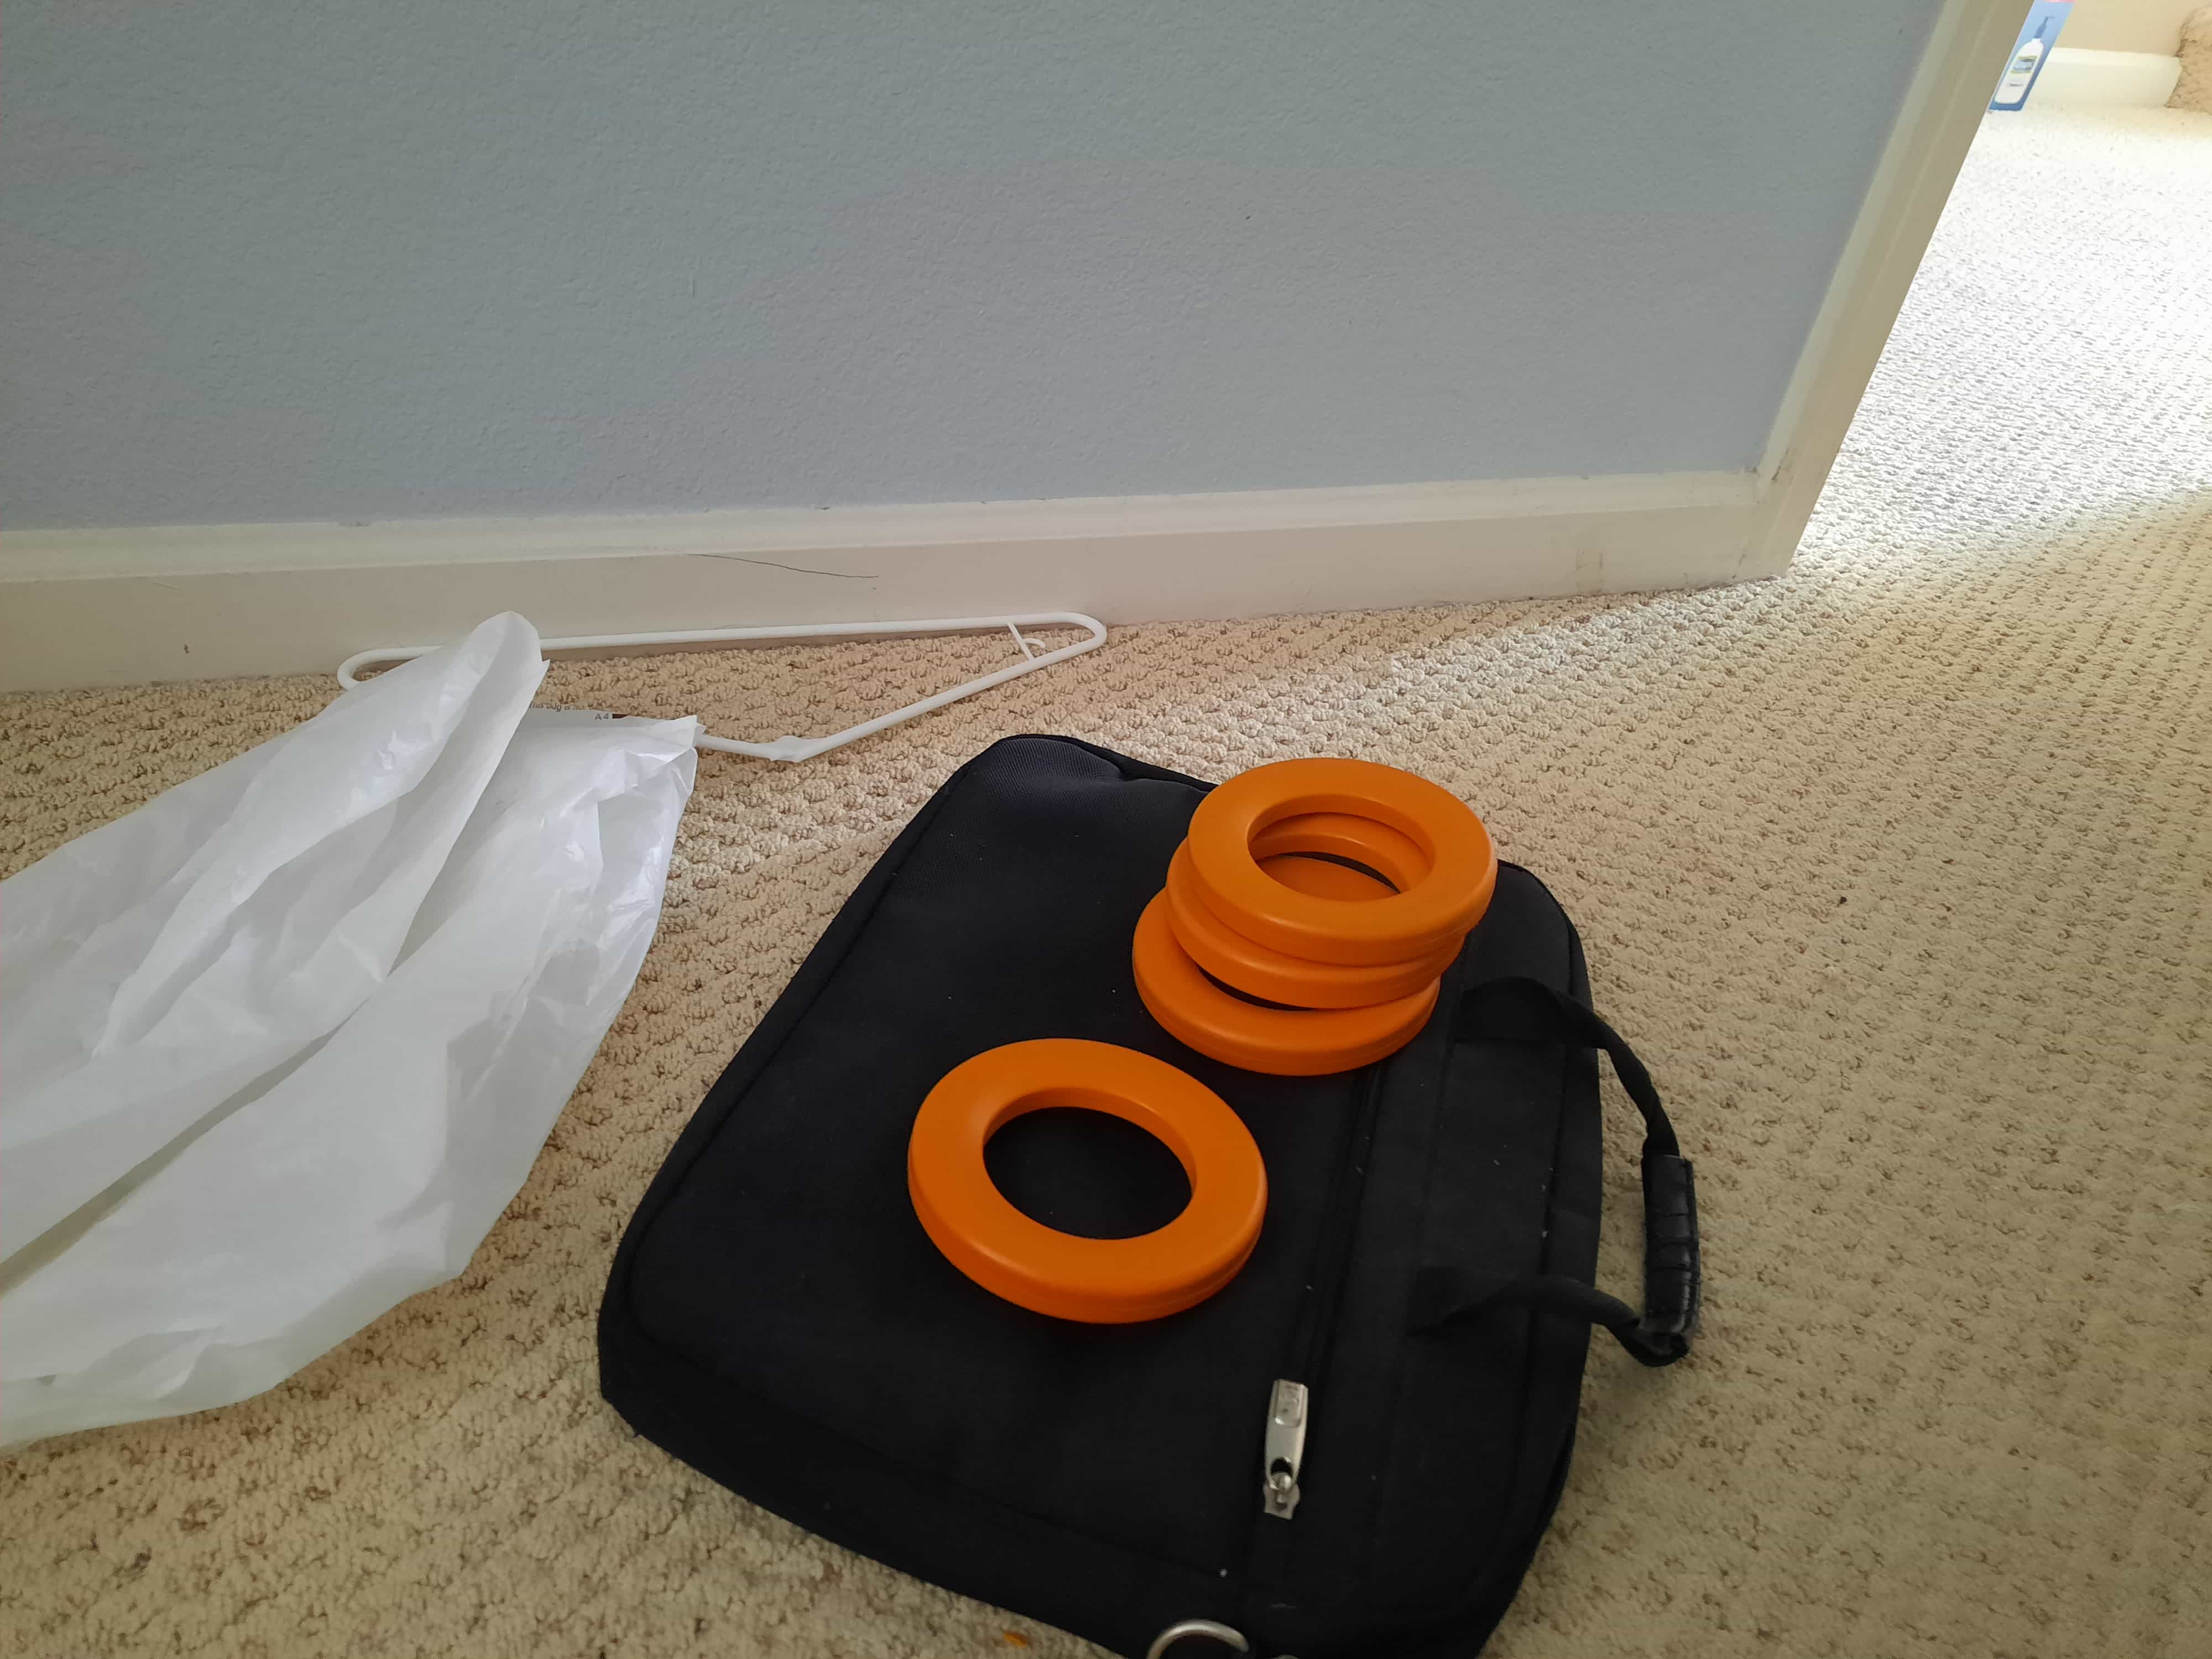FourStack: (1136, 775, 1493, 1070)
OneStack: (900, 1026, 1271, 1316)
